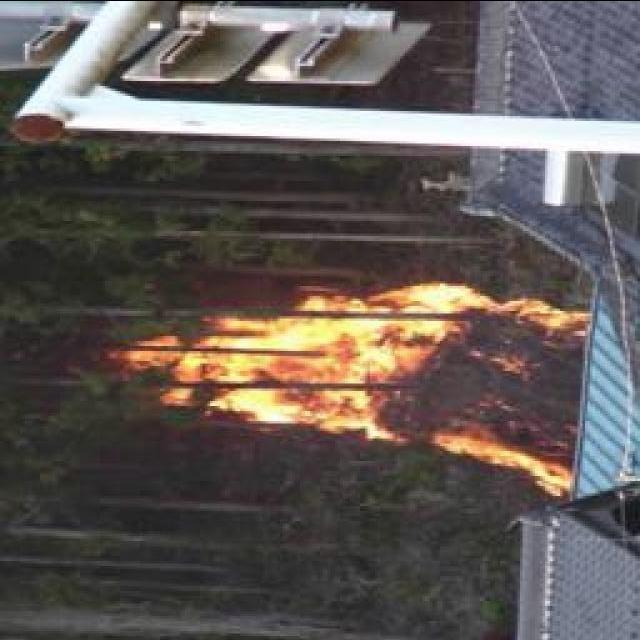Fire: (132, 277, 584, 491)
